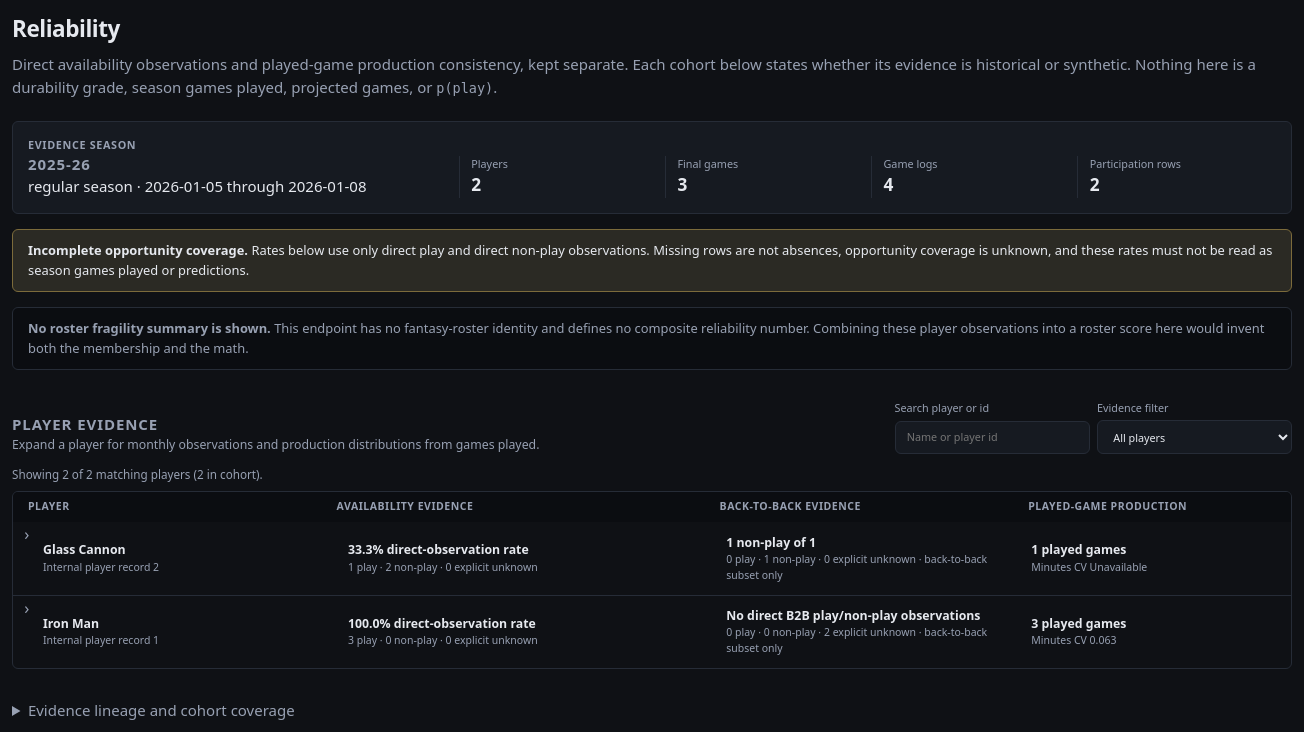
Test case: ReliabilityPage recorded contract › discloses explicit-unknown-only B2B evidence instead of classifying it as no evidence
Expected: the heading "Iron Man" shows "No direct B2B play/non-play observations", [43,607,1126,655]
Expected: the heading "Iron Man" shows "2 explicit unknown", [43,607,1126,655]
Select "No B2B evidence rows" in the dropdown labelled "Evidence filter": point(1194, 437) [1097,420,1292,454]
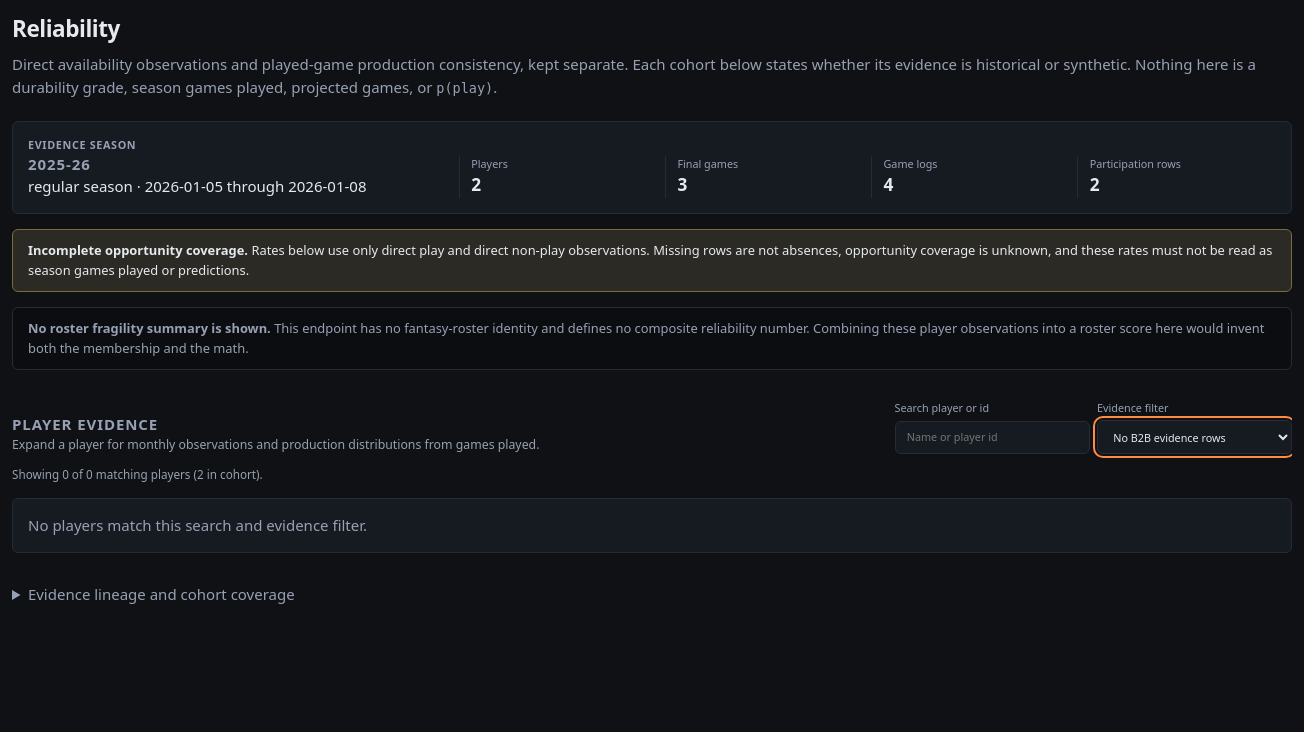
Expected: the heading "Iron Man" is gone
